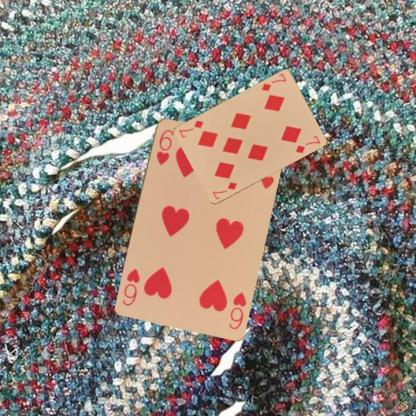6h: (226, 289, 247, 330), (153, 127, 175, 166)
7d: (259, 71, 287, 93), (210, 180, 238, 201)
